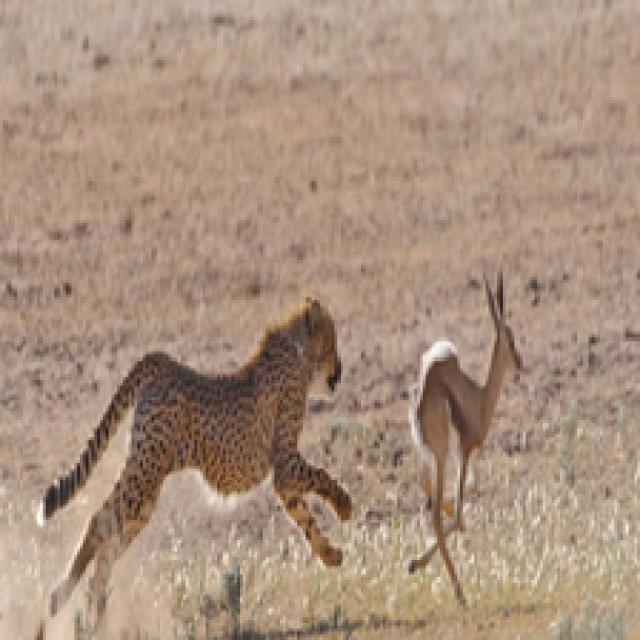cheetah: (31, 268, 396, 602)
